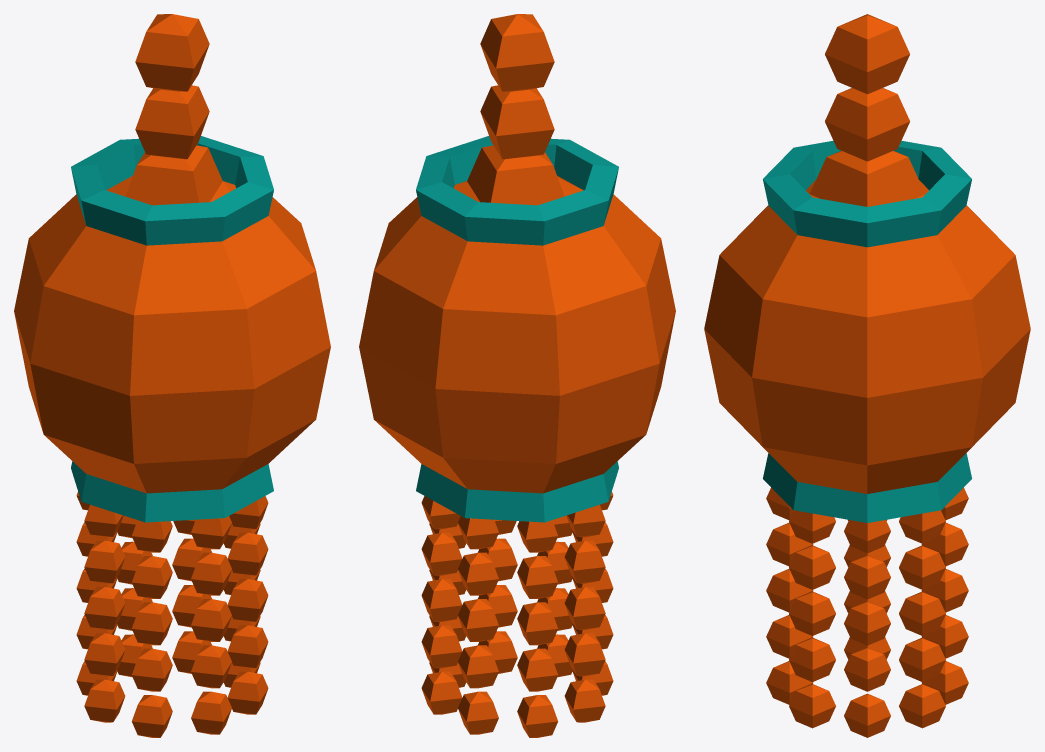
Rendered from GEO_lantern.fbx.
The picture shows the model from 3 angles, left to right: view 1: azimuth 30°, elevation 25°; view 2: azimuth 150°, elevation 25°; view 3: azimuth 270°, elevation 25°; orthographic projection.
Visible parts, largest first — view 1: GEO_lantern_ball, GEO_lantern, chain_5 (×5), chain_8 (×5), chain_4 (×5), chain_6 (×5), chain_7 (×3), chain_2 (×3); view 2: GEO_lantern_ball, GEO_lantern, chain_2 (×5), chain_1 (×5), chain_4 (×5), chain_7 (×5), chain_6 (×3), chain_5 (×3); view 3: GEO_lantern_ball, GEO_lantern, chain_3 (×5), chain_6 (×5), chain_7 (×5), chain_2 (×4), chain_5 (×4).
Part boxes in pixels (x1,y1,x2,y2): GEO_lantern_ball: (14, 136, 330, 522); GEO_lantern: (135, 14, 209, 159); chain_5 (×5): (191, 516, 231, 734); chain_8 (×5): (131, 520, 172, 737); chain_4 (×5): (84, 504, 125, 722); chain_6 (×5): (227, 496, 268, 714); chain_7 (×3): (172, 538, 211, 673); chain_2 (×3): (117, 541, 152, 677); GEO_lantern_ball: (359, 136, 675, 522); GEO_lantern: (480, 14, 554, 159); chain_2 (×5): (458, 516, 498, 734); chain_1 (×5): (517, 520, 558, 737); chain_4 (×5): (564, 504, 605, 722); chain_7 (×5): (421, 496, 462, 714); chain_6 (×3): (478, 538, 517, 673); chain_5 (×3): (537, 541, 572, 677); GEO_lantern_ball: (704, 140, 1030, 522); GEO_lantern: (825, 14, 909, 161); chain_3 (×5): (844, 520, 890, 737); chain_6 (×5): (789, 510, 835, 728); chain_7 (×5): (899, 510, 945, 728); chain_2 (×4): (921, 523, 968, 704); chain_5 (×4): (766, 523, 813, 704).
Size of the model in its own units: 64.36 by 150 by 64.36.
